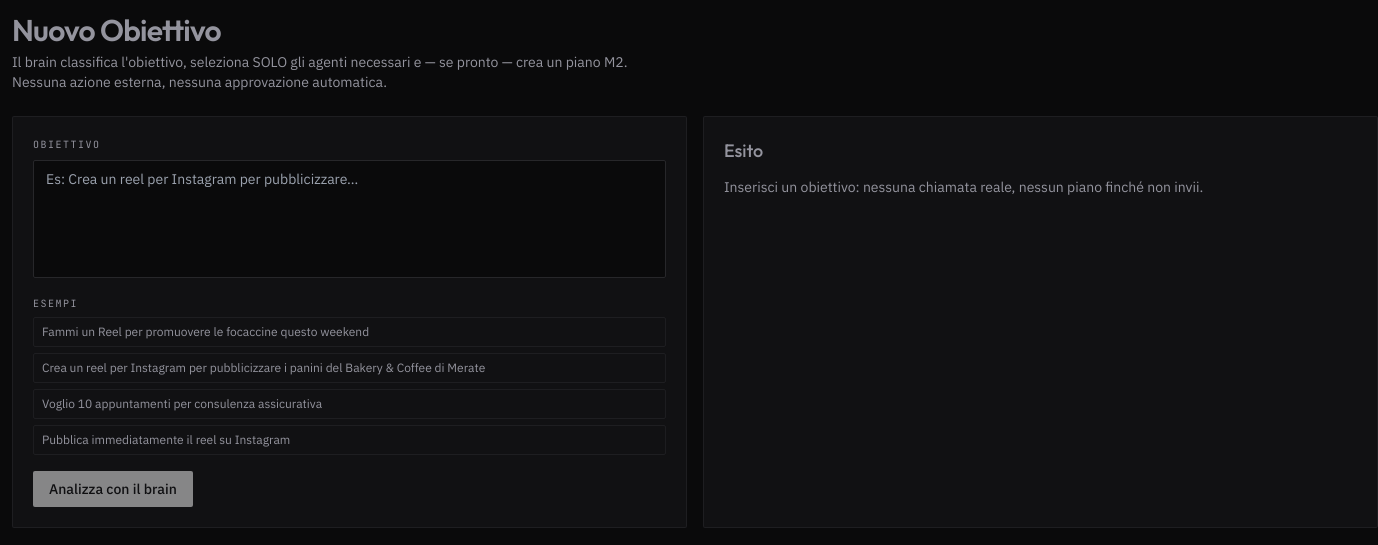
Test: NewGoal › mostra BLOCKED_RISK con i rischi valutati dalla proposta LLM
Step 1. Type "richiesta rischiosa" into the text box with test id "goal-input" → (350,219), box [33,160,666,278]
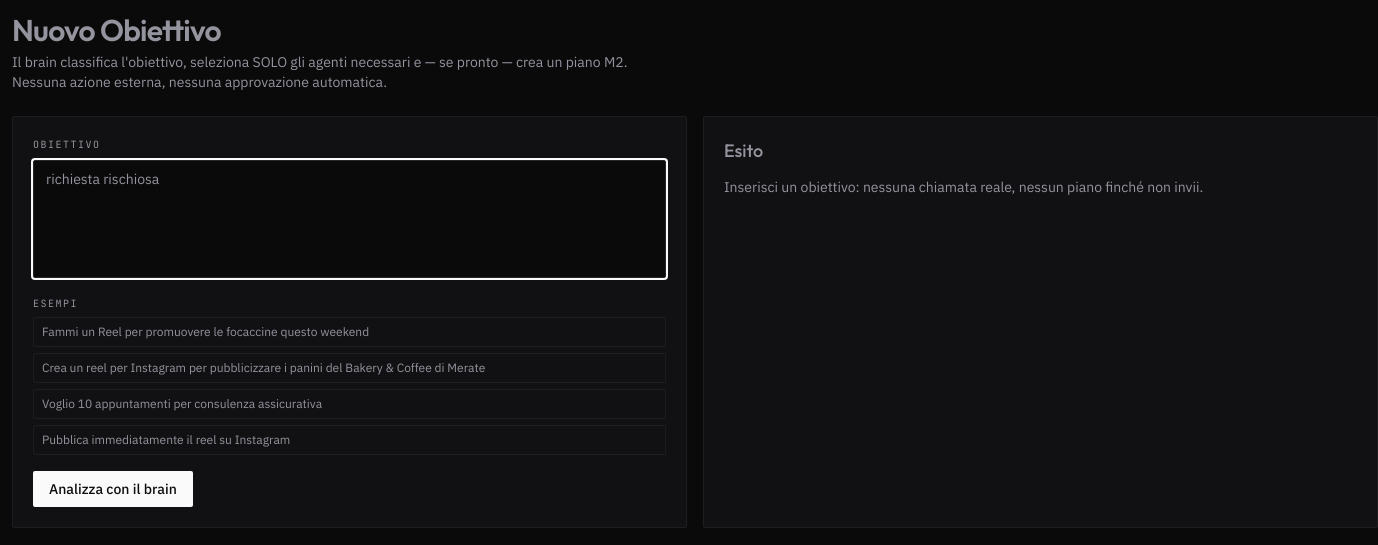
Step 2. Click the button with test id "goal-classify" → (113,489), box [33,471,193,507]
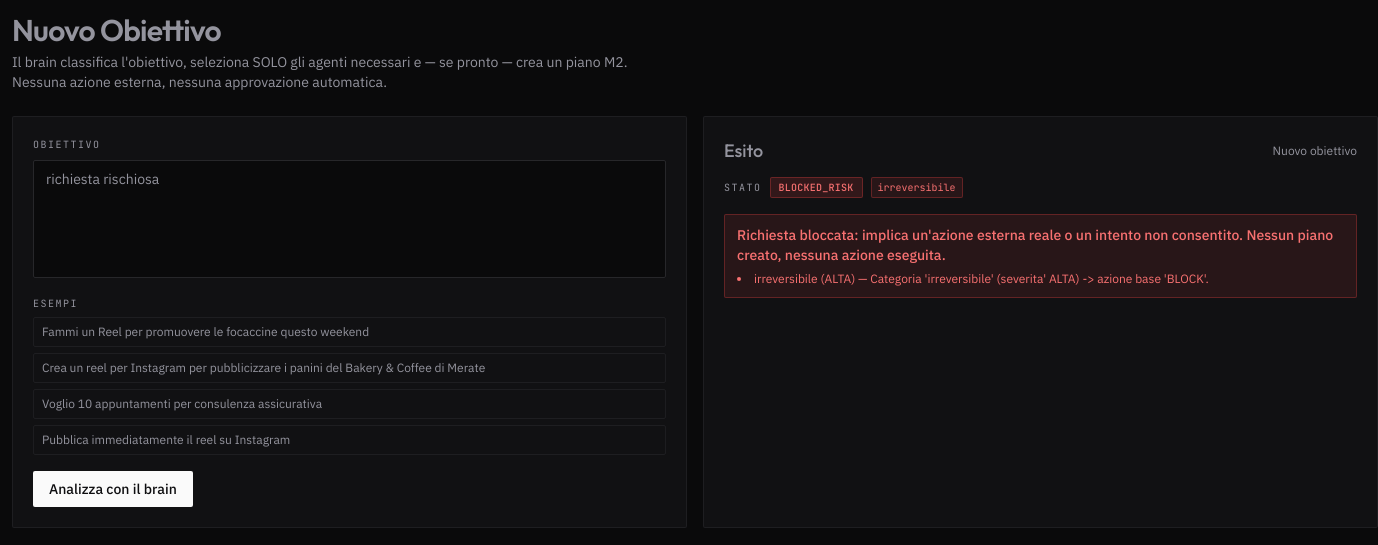
Now the element with test id "goal-blocked" shows "irreversibile", box [754,271,818,286]
Now the element with test id "goal-blocked" shows "ALTA", box [825,271,851,286]
